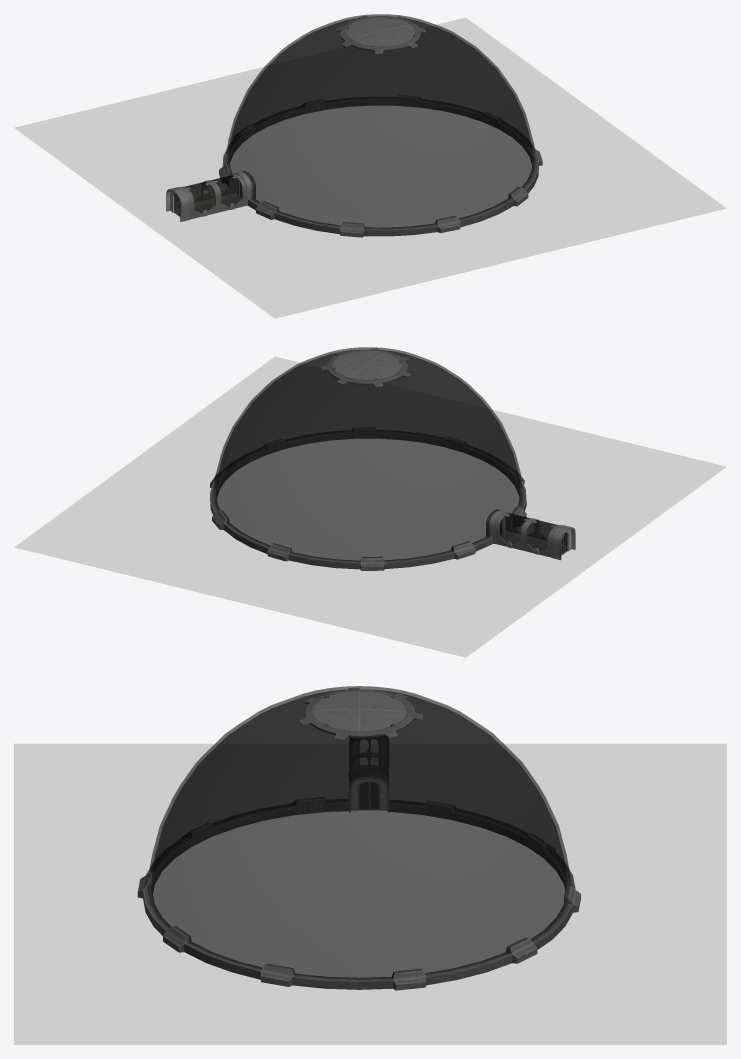
Rendered from dome and walkway  base no animation.FBX.
3 views of the same model, one above another, from view 1: azimuth 30°, elevation 25°; view 2: azimuth 150°, elevation 25°; view 3: azimuth 270°, elevation 25° (orthographic). The views are drawn at different scales.
Visible parts, largest first — view 1: floor, dome, dome ring, walkway, walk way glass, dome top door frame, door frame002; view 2: floor, dome, dome ring, walkway, walk way glass, dome top door frame, door frame002; view 3: floor, dome, dome ring, dome top door frame, walkway, door frame, dome top door 3, dome top door 1, dome top door 4, dome top door 2.
Part boxes in pixels (<box>): floor: <box>14,17,726,318</box>; dome: <box>226,14,535,228</box>; dome ring: <box>219,95,542,237</box>; walkway: <box>176,174,246,219</box>; walk way glass: <box>184,175,242,213</box>; dome top door frame: <box>335,16,426,54</box>; door frame002: <box>166,187,190,221</box>; floor: <box>14,356,726,657</box>; dome: <box>213,347,522,561</box>; dome ring: <box>210,427,526,570</box>; walkway: <box>495,512,565,557</box>; walk way glass: <box>499,513,557,551</box>; dome top door frame: <box>321,348,410,387</box>; door frame002: <box>551,525,575,560</box>; floor: <box>14,743,726,1044</box>; dome: <box>148,686,570,979</box>; dome ring: <box>137,797,580,990</box>; dome top door frame: <box>299,687,423,741</box>; walkway: <box>349,737,388,807</box>; door frame: <box>349,772,388,812</box>; dome top door 3: <box>360,709,406,731</box>; dome top door 1: <box>313,709,359,731</box>; dome top door 4: <box>313,692,359,711</box>; dome top door 2: <box>360,692,406,711</box>.
Bounding box in the file's own units: 1349 × 398 × 1349.
